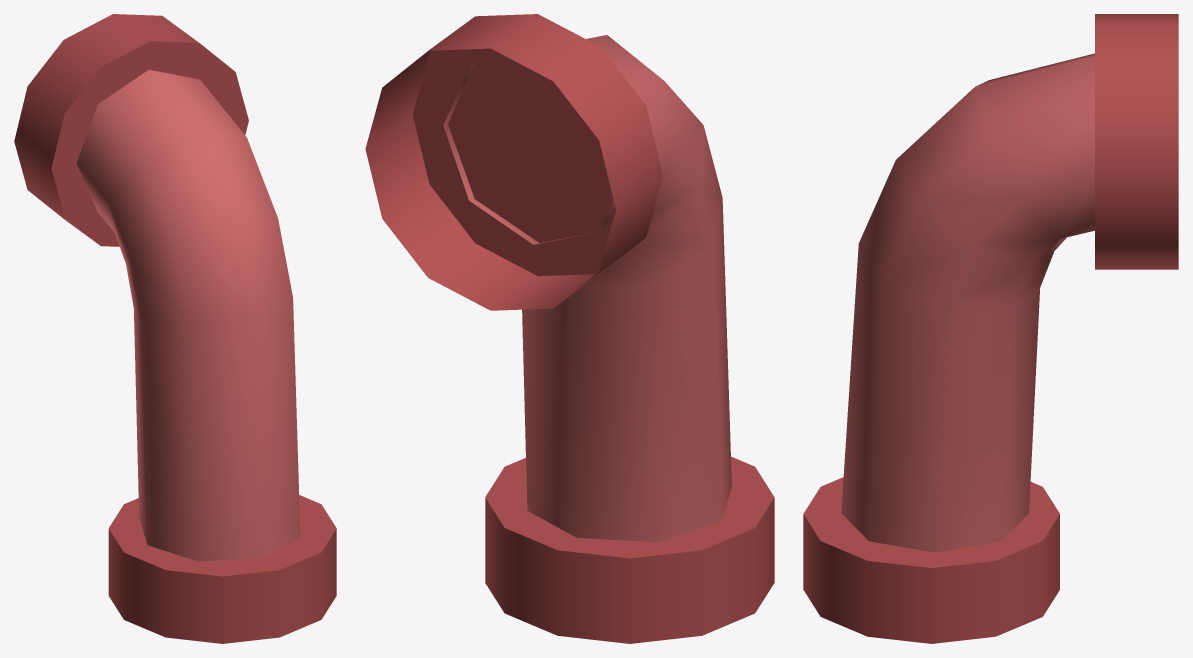
The model's file is Pipa1.dae.
3 renders of one model, left to right at view 1: azimuth 30°, elevation 25°; view 2: azimuth 150°, elevation 25°; view 3: azimuth 270°, elevation 25°, orthographic. The views are drawn at different scales.
Visible parts, largest first — view 1: Cylinder.005; view 2: Cylinder.005; view 3: Cylinder.005.
Part boxes in pixels (bbox=[...]): Cylinder.005: bbox=[14, 14, 336, 643]; Cylinder.005: bbox=[365, 14, 774, 643]; Cylinder.005: bbox=[803, 14, 1178, 643].
Bounding box in the file's own units: 0.4089 × 0.5977 × 0.9919.
